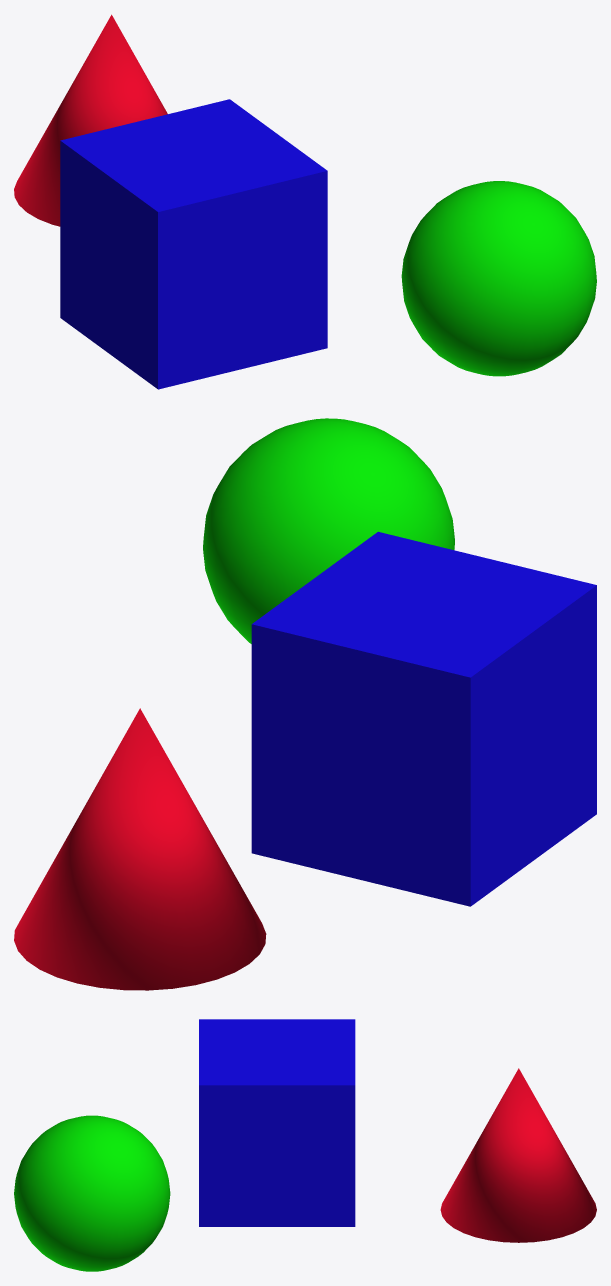
File: BasicScene.gltf
3 views of the same model, one above another, from view 1: azimuth 30°, elevation 25°; view 2: azimuth 150°, elevation 25°; view 3: azimuth 270°, elevation 25° (orthographic). The views are drawn at different scales.
Parts seen in each view (by area): view 1: Cube, Sphere, Cone; view 2: Cube, Cone, Sphere; view 3: Cube, Sphere, Cone.
Boxes of the visible parts, bbox=[...] form: Cube: bbox=[60, 99, 327, 389]; Sphere: bbox=[401, 181, 596, 376]; Cone: bbox=[14, 14, 167, 226]; Cube: bbox=[251, 531, 596, 906]; Cone: bbox=[14, 708, 266, 990]; Sphere: bbox=[203, 418, 454, 643]; Cube: bbox=[199, 1019, 355, 1226]; Sphere: bbox=[14, 1115, 170, 1271]; Cone: bbox=[440, 1068, 596, 1242].
Bounding box in the file's own units: 4.24 × 2.16 × 7.45.
